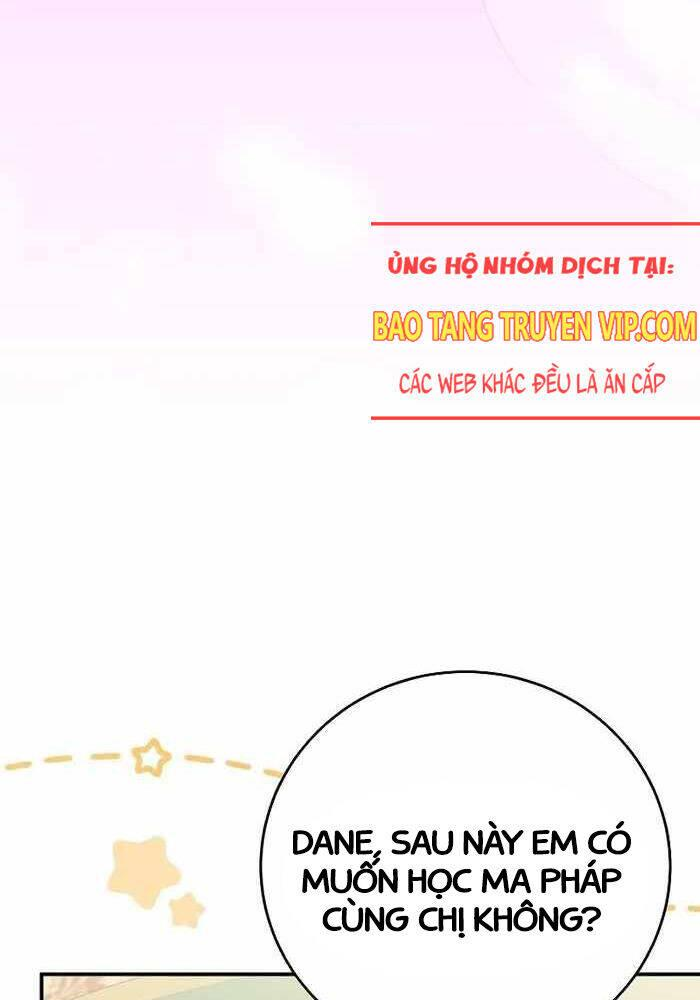quangcao: (370, 220, 700, 421)
